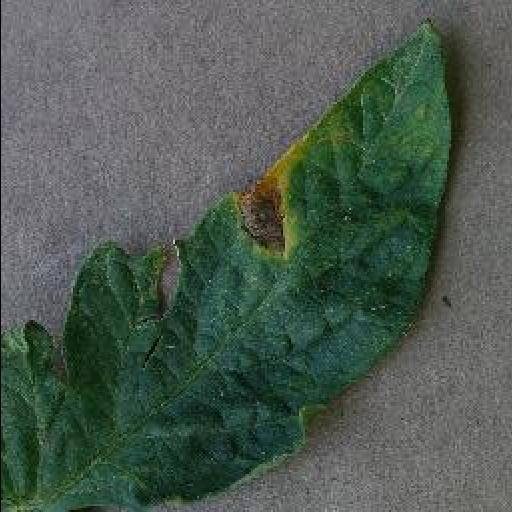disease_tomato: (0, 18, 460, 512)
